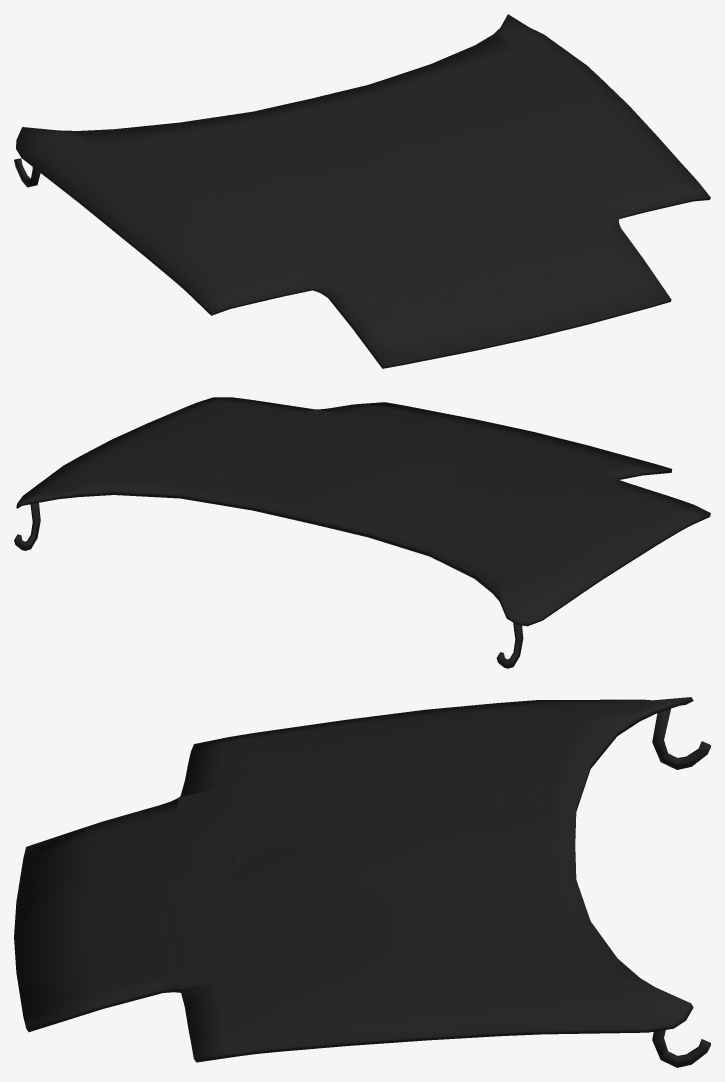
The model's file is HD40_carbon_bonnet.glb.
3 views of the same model, one above another, from view 1: azimuth 30°, elevation 25°; view 2: azimuth 150°, elevation 25°; view 3: azimuth 270°, elevation 25° (orthographic). The views are drawn at different scales.
Parts seen in each view (by area): view 1: MOD_NA_HD40_panel; view 2: MOD_NA_HD40_panel; view 3: MOD_NA_HD40_panel.
Boxes of the visible parts, box(x1,y1,x2,y2) form: MOD_NA_HD40_panel: box(14, 14, 710, 368); MOD_NA_HD40_panel: box(14, 397, 710, 668); MOD_NA_HD40_panel: box(14, 697, 710, 1067).
Size of the model in its own units: 1.39 by 0.2083 by 1.27.
1 material, 1 textured.
